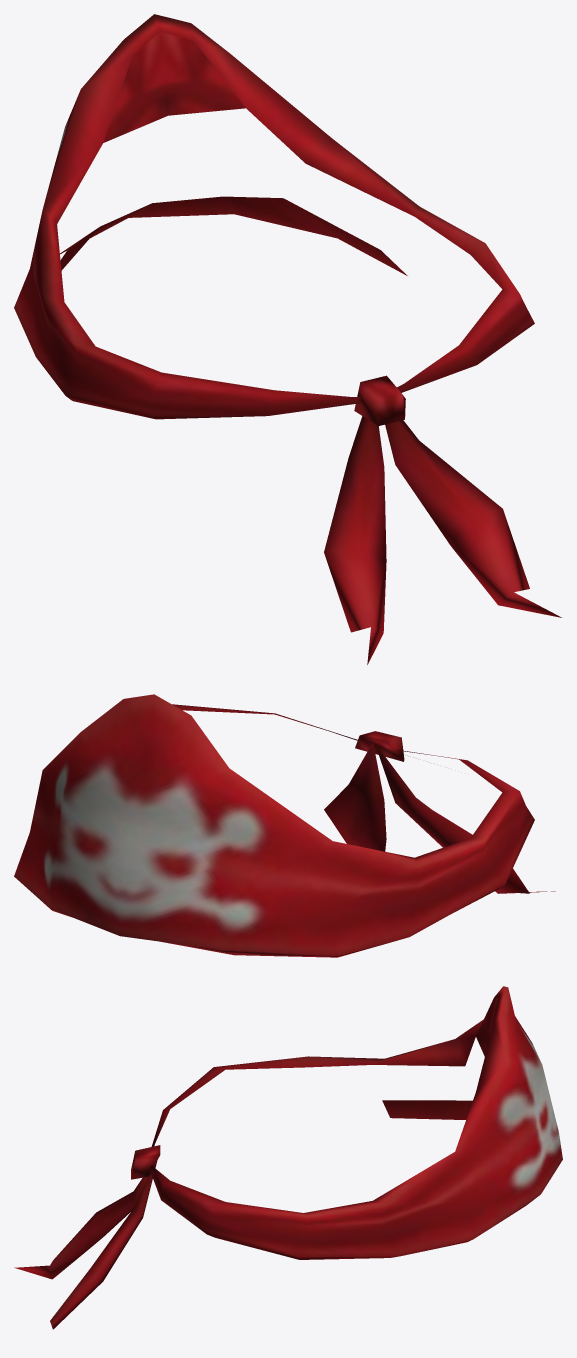
Rendered from pirateBandana.glb.
3 renders of one model, top to bottom at view 1: azimuth 30°, elevation 25°; view 2: azimuth 150°, elevation 25°; view 3: azimuth 270°, elevation 25°, orthographic. The views are drawn at different scales.
Parts seen in each view (by area): view 1: pirateBandana; view 2: pirateBandana; view 3: pirateBandana.
Boxes of the visible parts, x1,y1,x2,y2 form: pirateBandana: [14, 14, 561, 664]; pirateBandana: [14, 694, 555, 957]; pirateBandana: [14, 986, 562, 1329].
Bounding box in the file's own units: 0.3344 × 0.2908 × 0.4543.
Materials: 1 (1 with a texture image).
